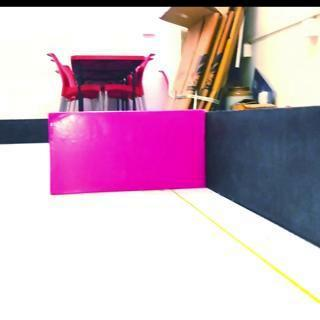xparking: (48, 114, 208, 195)
